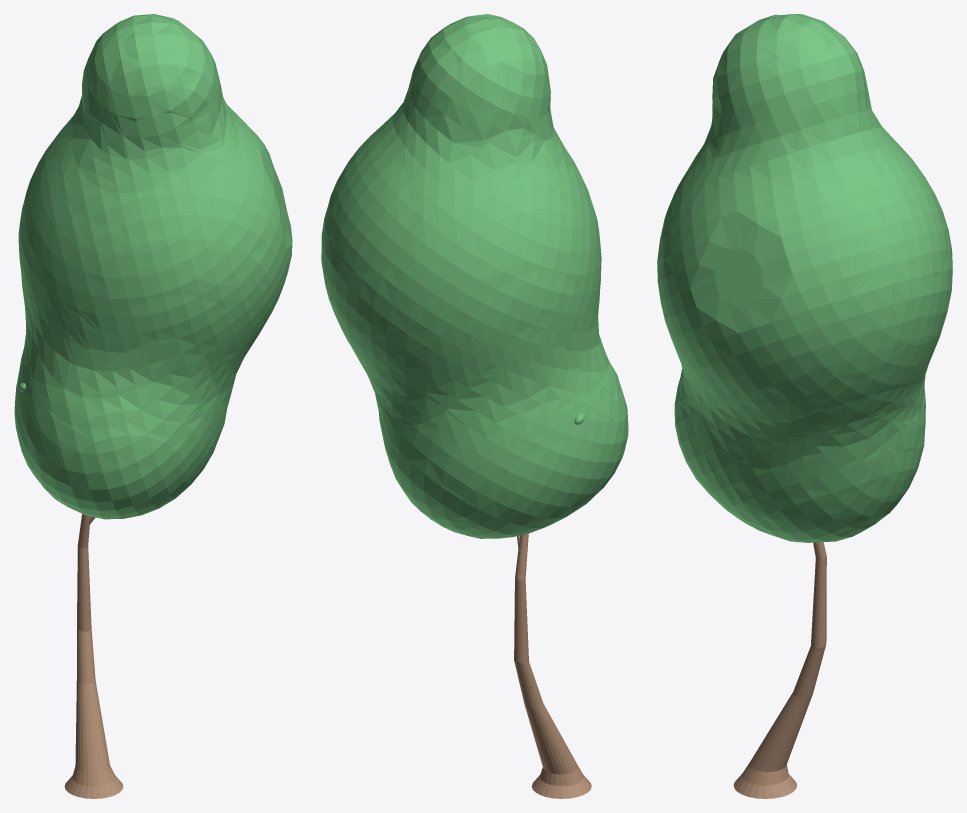
Rendered from Cartoon_Trees_Pack_Tree_3.glb.
3 views of the same model, side by side, from view 1: azimuth 30°, elevation 25°; view 2: azimuth 150°, elevation 25°; view 3: azimuth 270°, elevation 25° (orthographic). The views are drawn at different scales.
Visible parts, largest first — view 1: Canopy, Trunk; view 2: Canopy, Trunk; view 3: Canopy, Trunk.
Part boxes in pixels (x1,y1,x2,y2): Canopy: (14,14,292,519); Trunk: (64,514,123,798); Canopy: (321,14,628,538); Trunk: (514,533,591,798); Canopy: (657,14,952,542); Trunk: (733,542,826,798).
Size of the model in its own units: 414 by 1149 by 384.
